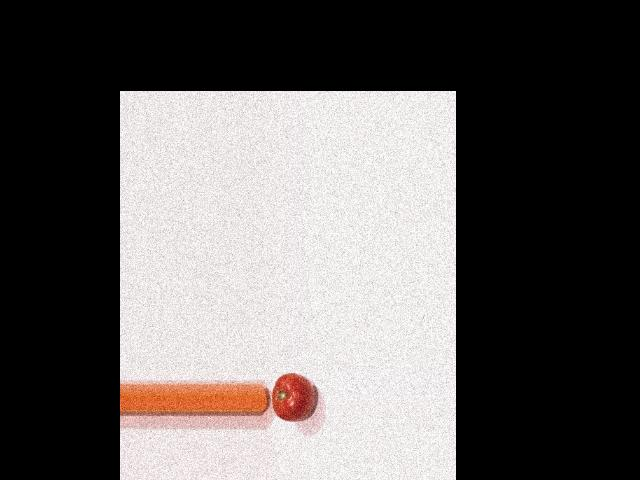tomato: (272, 372, 314, 420)
